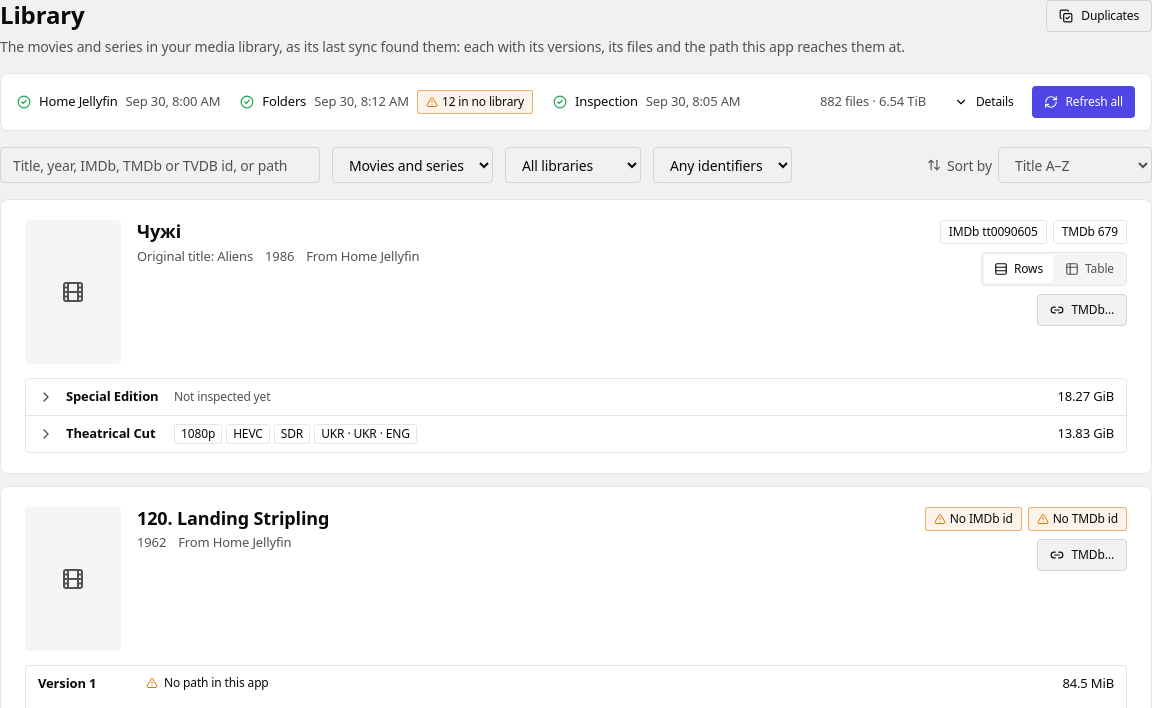
Test: LibraryPage TMDb links › gives the focus to the dialog as it opens, by a click or a key, and back to the card's TMDb… as it closes
Later steps or results of the test are not shown.
Click the button "TMDb…" below "No IMDb id" at (1082, 554), box [1036, 538, 1127, 570]
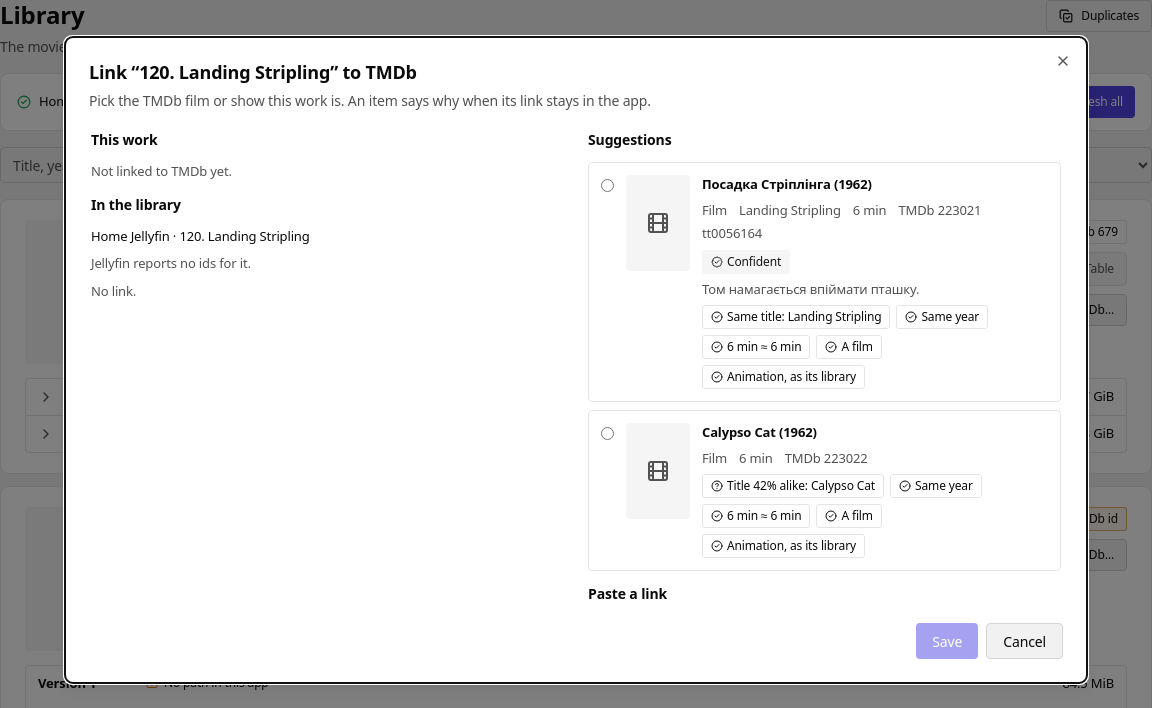
Check: the heading "Suggestions" is shown, box [588, 130, 672, 149]
Press Escape
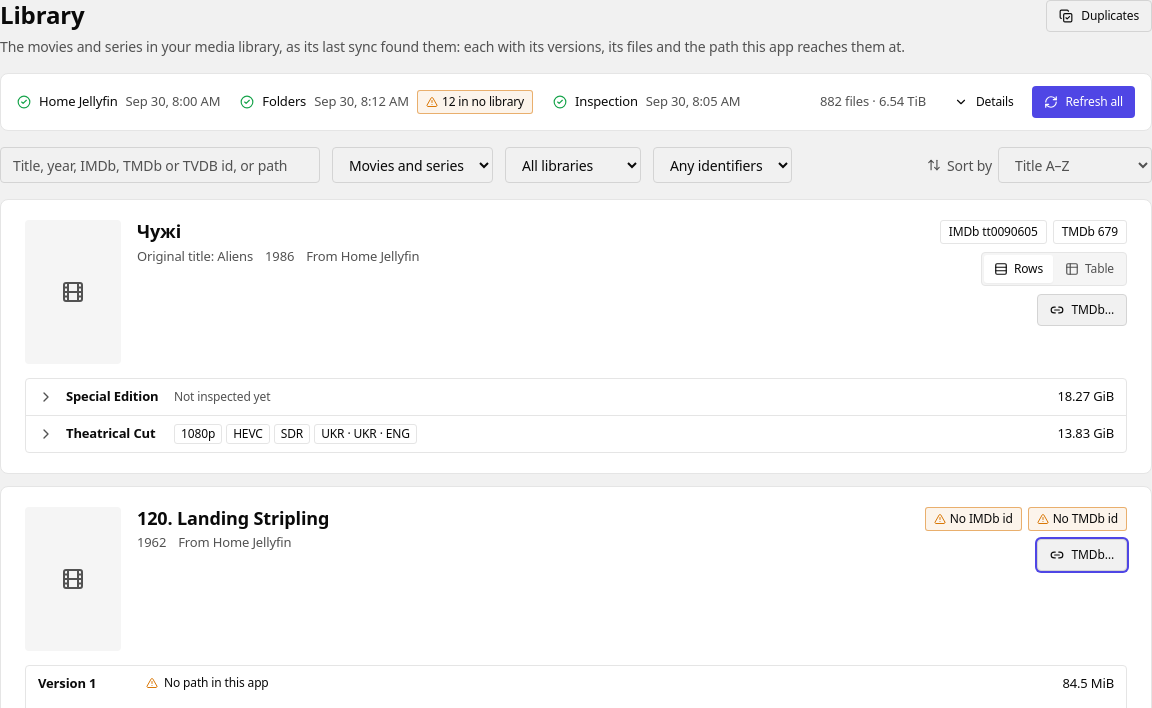
Press Enter
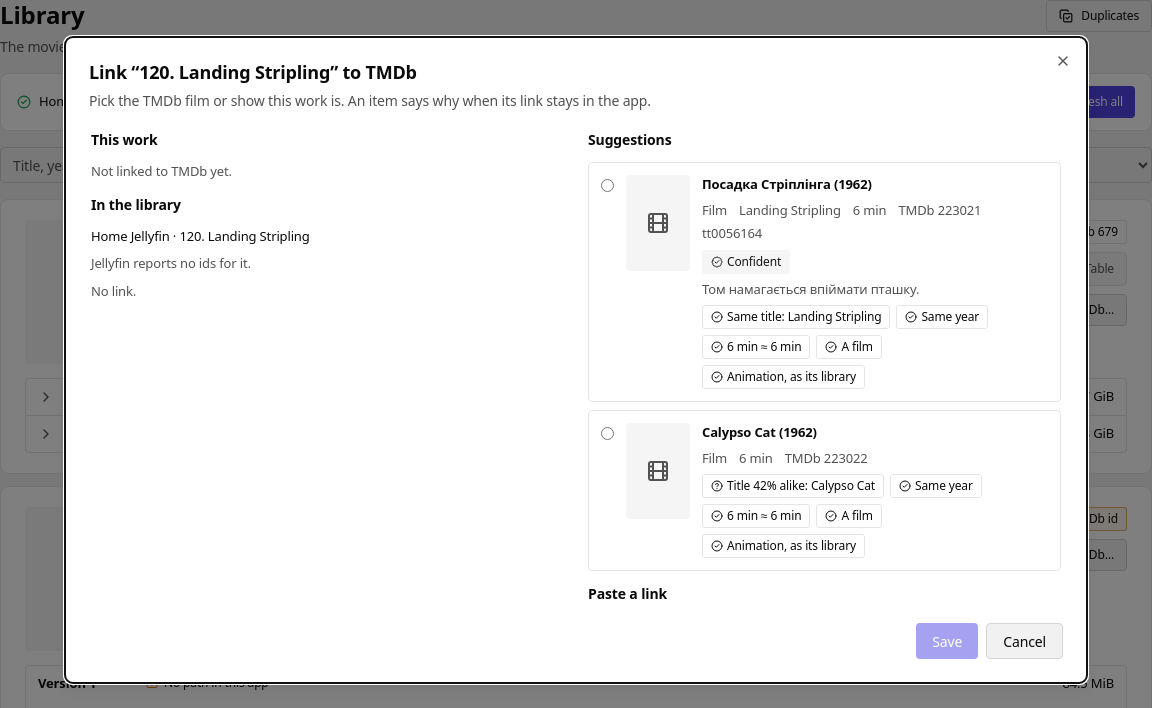
Check: the heading "Suggestions" is shown, box [588, 130, 672, 149]
